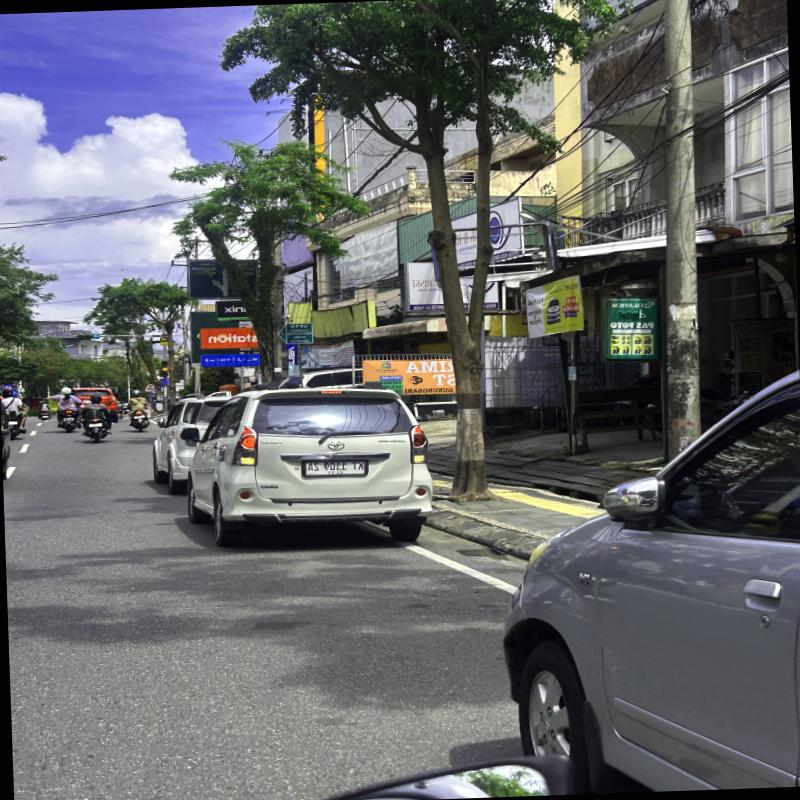license plate on a car: (305, 460, 364, 475)
